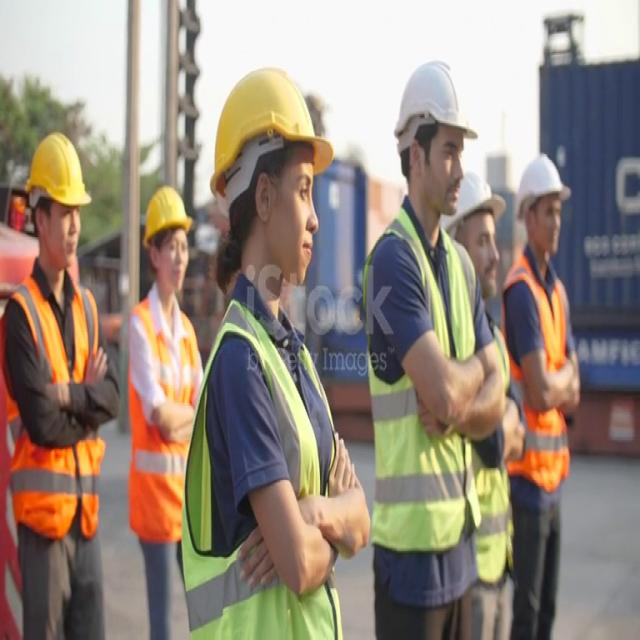capacete: (198, 56, 350, 208), (379, 45, 485, 152), (24, 113, 94, 231), (427, 157, 512, 232), (508, 141, 578, 220), (128, 176, 192, 246)
